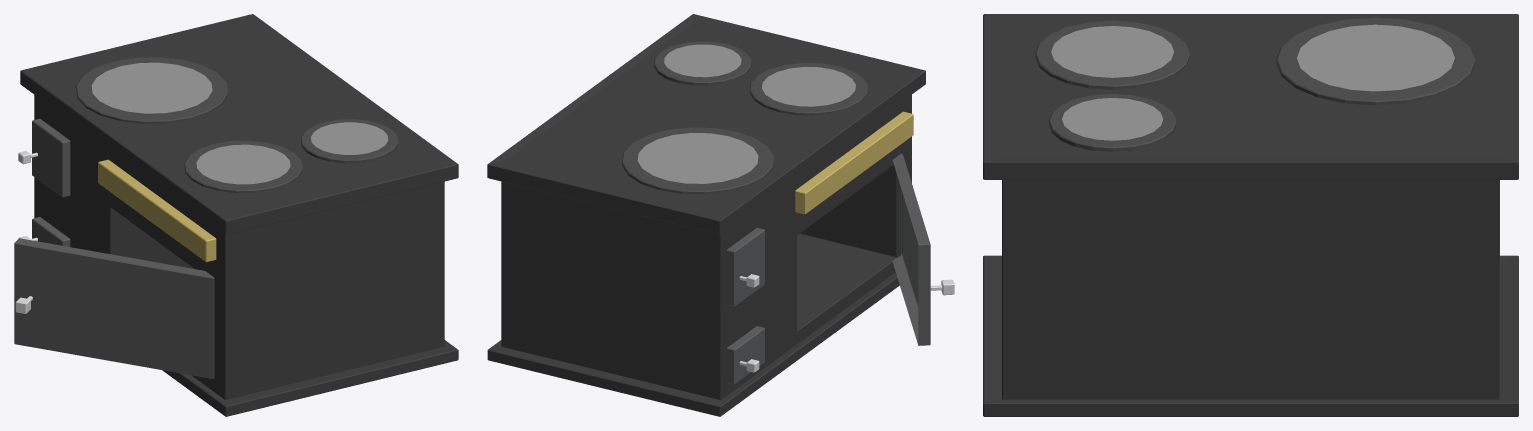
Rendered from Gammal_Smålandsspis.fbx.
3 views of the same model, side by side, from view 1: azimuth 30°, elevation 25°; view 2: azimuth 150°, elevation 25°; view 3: azimuth 270°, elevation 25° (orthographic). The views are drawn at different scales.
Parts seen in each view (by area): view 1: pCylinder5; view 2: pCylinder5; view 3: pCylinder5.
Boxes of the visible parts, bbox=[...] form: pCylinder5: bbox=[14, 14, 458, 416]; pCylinder5: bbox=[487, 14, 954, 416]; pCylinder5: bbox=[983, 14, 1518, 416].
Bounding box in the file's own units: 6.06 × 3.29 × 6.14.
